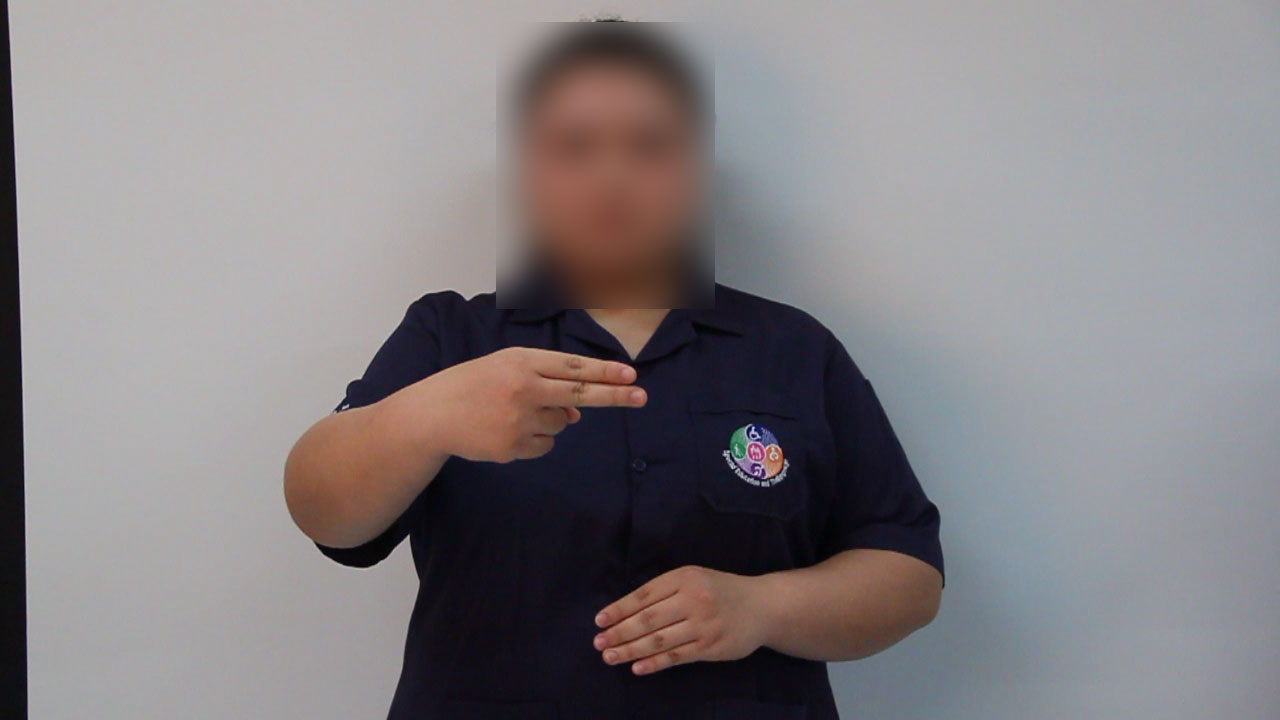hor: (428, 339, 661, 478)
